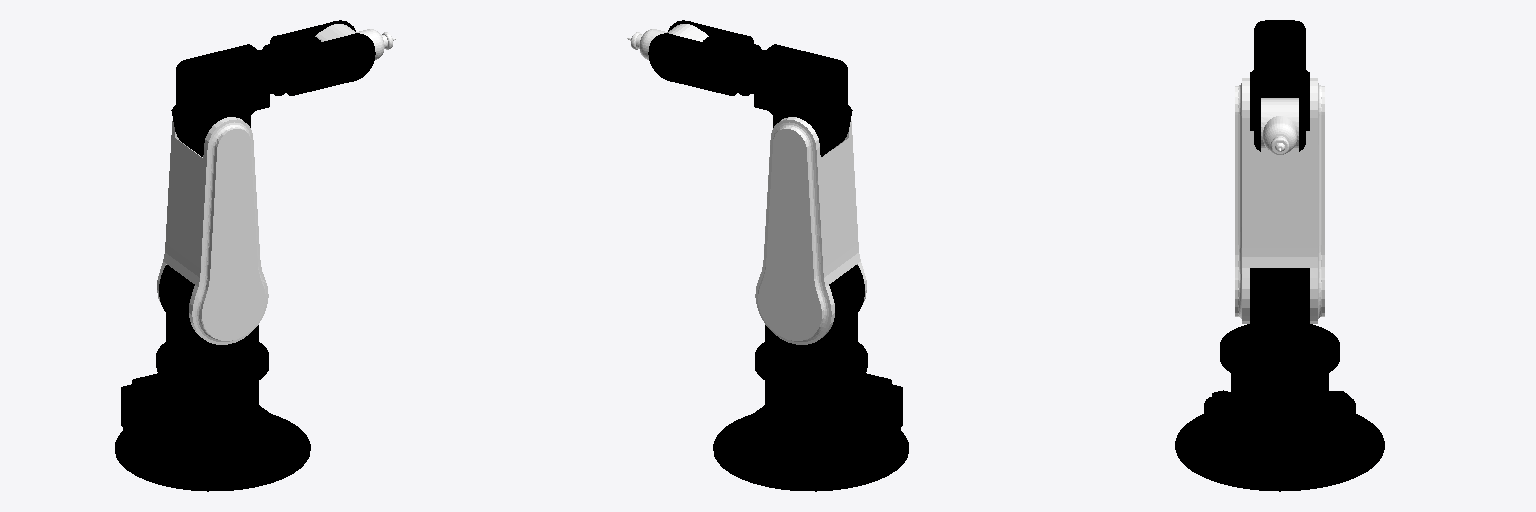
robot.urdf — my_arm:
<?xml version="1.0" encoding="utf-8"?>
<!-- This URDF was automatically created by SolidWorks to URDF Exporter! Originally created by [author] ([email redacted]) 
     Commit Version: 1.6.0-1-g15f4949  Build Version: 1.6.7594.29634
     For more information, please see http://wiki.ros.org/sw_urdf_exporter -->
<robot
  name="my_arm">
  <link
    name="base_link">
    <inertial>
      <origin
        xyz="-0.031299 -7.258E-09 0.09321"
        rpy="0 0 0" />
      <mass
        value="20.049" />
      <inertia
        ixx="0.34017"
        ixy="-2.2487E-08"
        ixz="0.040982"
        iyy="0.42457"
        iyz="-5.8551E-08"
        izz="0.49879" />
    </inertial>
    <visual>
      <origin
        xyz="0 0 0"
        rpy="0 0 0" />
      <geometry>
        <mesh
          filename="package://my_arm/meshes/base_link.STL" />
      </geometry>
      <material
        name="">
        <color
          rgba="0 0 0 1" />
      </material>
    </visual>
    <collision>
      <origin
        xyz="0 0 0"
        rpy="0 0 0" />
      <geometry>
        <mesh
          filename="package://my_arm/meshes/base_link.STL" />
      </geometry>
    </collision>
  </link>
  <link
    name="link_one">
    <inertial>
      <origin
        xyz="7.5293E-10 3.1393E-09 0.086767"
        rpy="0 0 0" />
      <mass
        value="13.809" />
      <inertia
        ixx="0.26104"
        ixy="-2.1453E-07"
        ixz="6.449E-09"
        iyy="0.28886"
        iyz="-1.9471E-09"
        izz="0.10042" />
    </inertial>
    <visual>
      <origin
        xyz="0 0 0"
        rpy="0 0 0" />
      <geometry>
        <mesh
          filename="package://my_arm/meshes/link_one.STL" />
      </geometry>
      <material
        name="">
        <color
          rgba="0 0 0 1" />
      </material>
    </visual>
    <collision>
      <origin
        xyz="0 0 0"
        rpy="0 0 0" />
      <geometry>
        <mesh
          filename="package://my_arm/meshes/link_one.STL" />
      </geometry>
    </collision>
  </link>
  <joint
    name="joint_one"
    type="revolute">
    <origin
      xyz="0 0 0.28"
      rpy="0 0 0" />
    <parent
      link="base_link" />
    <child
      link="link_one" />
    <axis
      xyz="0 0 1" />
    <limit
      lower="-2.356"
      upper="2.356"
      effort="200"
      velocity="0.3" />
  </joint>
  <link
    name="link_two">
    <inertial>
      <origin
        xyz="-1.9505E-09 -1.7799E-07 0.21637"
        rpy="0 0 0" />
      <mass
        value="21.868" />
      <inertia
        ixx="0.76838"
        ixy="3.3983E-07"
        ixz="-1.7028E-06"
        iyy="0.70685"
        iyz="1.8869E-06"
        izz="0.16905" />
    </inertial>
    <visual>
      <origin
        xyz="0 0 0"
        rpy="0 0 0" />
      <geometry>
        <mesh
          filename="package://my_arm/meshes/link_two.STL" />
      </geometry>
      <material
        name="">
        <color
          rgba="1 1 1 1" />
      </material>
    </visual>
    <collision>
      <origin
        xyz="0 0 0"
        rpy="0 0 0" />
      <geometry>
        <mesh
          filename="package://my_arm/meshes/link_two.STL" />
      </geometry>
    </collision>
  </link>
  <joint
    name="joint_two"
    type="revolute">
    <origin
      xyz="0 0 0.216"
      rpy="0 0 0" />
    <parent
      link="link_one" />
    <child
      link="link_two" />
    <axis
      xyz="0 1 0" />
    <limit
      lower="-1.57"
      upper="1.57"
      effort="200"
      velocity="0.3" />
  </joint>
  <link
    name="link_three">
    <inertial>
      <origin
        xyz="0.13489 3.8037E-07 0.12025"
        rpy="0 0 0" />
      <mass
        value="11.685" />
      <inertia
        ixx="0.072059"
        ixy="4.5324E-07"
        ixz="-0.04344"
        iyy="0.34963"
        iyz="-8.1945E-08"
        izz="0.31747" />
    </inertial>
    <visual>
      <origin
        xyz="0 0 0"
        rpy="0 0 0" />
      <geometry>
        <mesh
          filename="package://my_arm/meshes/link_three.STL" />
      </geometry>
      <material
        name="">
        <color
          rgba="0 0 0 1" />
      </material>
    </visual>
    <collision>
      <origin
        xyz="0 0 0"
        rpy="0 0 0" />
      <geometry>
        <mesh
          filename="package://my_arm/meshes/link_three.STL" />
      </geometry>
    </collision>
  </link>
  <joint
    name="joint_three"
    type="revolute">
    <origin
      xyz="0 0 0.5"
      rpy="0 0 0" />
    <parent
      link="link_two" />
    <child
      link="link_three" />
    <axis
      xyz="0 -1 0" />
    <limit
      lower="-0.785"
      upper="2.35"
      effort="200"
      velocity="0.3" />
  </joint>
  <link
    name="link_four">
    <inertial>
      <origin
        xyz="0.02219 -6.7004E-09 3.6288E-08"
        rpy="0 0 0" />
      <mass
        value="1.0983" />
      <inertia
        ixx="0.0020045"
        ixy="5.0055E-10"
        ixz="-5.3736E-10"
        iyy="0.0059209"
        iyz="1.6455E-09"
        izz="0.0054254" />
    </inertial>
    <visual>
      <origin
        xyz="0 0 0"
        rpy="0 0 0" />
      <geometry>
        <mesh
          filename="package://my_arm/meshes/link_four.STL" />
      </geometry>
      <material
        name="">
        <color
          rgba="1 1 1 1" />
      </material>
    </visual>
    <collision>
      <origin
        xyz="0 0 0"
        rpy="0 0 0" />
      <geometry>
        <mesh
          filename="package://my_arm/meshes/link_four.STL" />
      </geometry>
    </collision>
  </link>
  <joint
    name="joint_four"
    type="revolute">
    <origin
      xyz="0.42771 0 0.14865"
      rpy="0 0 0" />
    <parent
      link="link_three" />
    <child
      link="link_four" />
    <axis
      xyz="0 -1 0" />
    <limit
      lower="0"
      upper="2.35"
      effort="200"
      velocity="0.3" />
  </joint>
</robot>

--- Facts derived from the render (not from the file) ---
Views: 3 orthographic renders of the robot side by side, from view 1: azimuth 30°, elevation 25°; view 2: azimuth 150°, elevation 25°; view 3: azimuth 270°, elevation 25°.
Robot: my_arm — 5 links, 4 joints (4 revolute); root link base_link; default pose: all joints at 0.
Links seen in each view (by area): view 1: base_link, link_two, link_three, link_one, link_four; view 2: base_link, link_two, link_three, link_one, link_four; view 3: base_link, link_two, link_one, link_three, link_four.
Boxes of the visible links, <box> form: base_link: <box>115,361,310,491</box>; link_two: <box>157,117,268,344</box>; link_three: <box>171,20,375,156</box>; link_one: <box>156,265,268,383</box>; link_four: <box>315,24,396,59</box>; base_link: <box>713,361,908,491</box>; link_two: <box>755,117,866,344</box>; link_three: <box>648,20,852,156</box>; link_one: <box>755,265,867,383</box>; link_four: <box>627,24,708,59</box>; base_link: <box>1175,355,1384,491</box>; link_two: <box>1235,78,1324,323</box>; link_one: <box>1220,268,1339,376</box>; link_three: <box>1250,20,1309,151</box>; link_four: <box>1261,98,1298,154</box>.
Size in the robot's own frame: 0.8802 by 0.555 by 1.22 metres.
5 mesh visuals loaded from 5 distinct referenced files (5 binary STL).